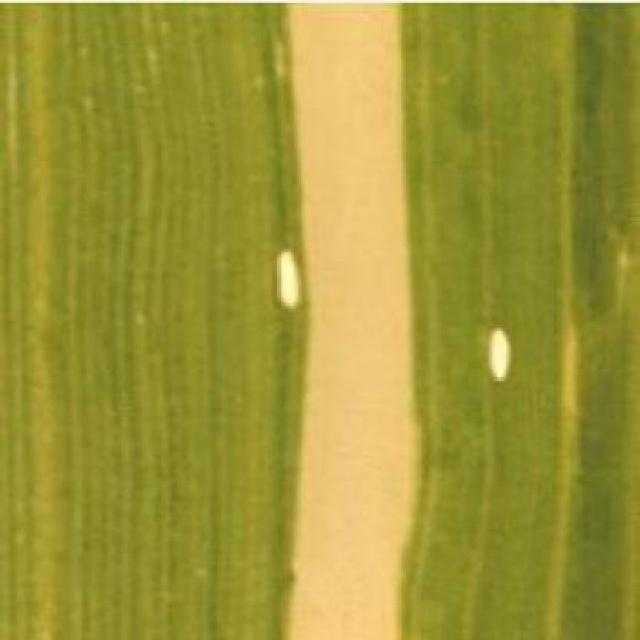whorl-maggot: (266, 242, 306, 316), (478, 326, 514, 389)
